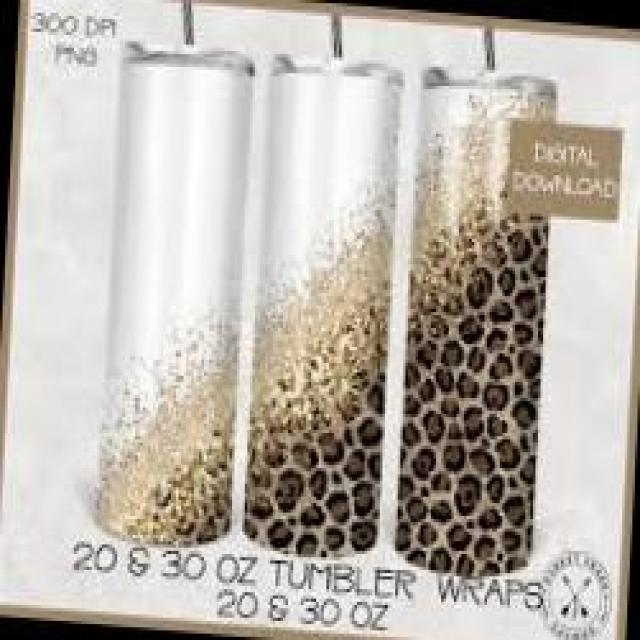bottle: (381, 54, 565, 583), (83, 31, 261, 550), (236, 40, 407, 562)
